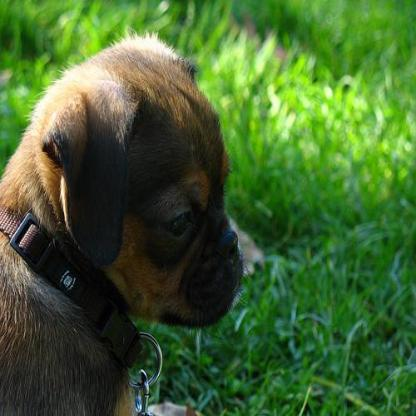Brabancon_griffon: (0, 34, 244, 414)
